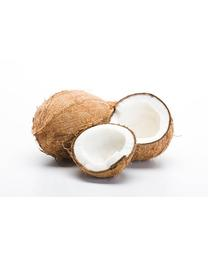coconut: (33, 88, 116, 163), (104, 92, 173, 163), (69, 121, 137, 179)
